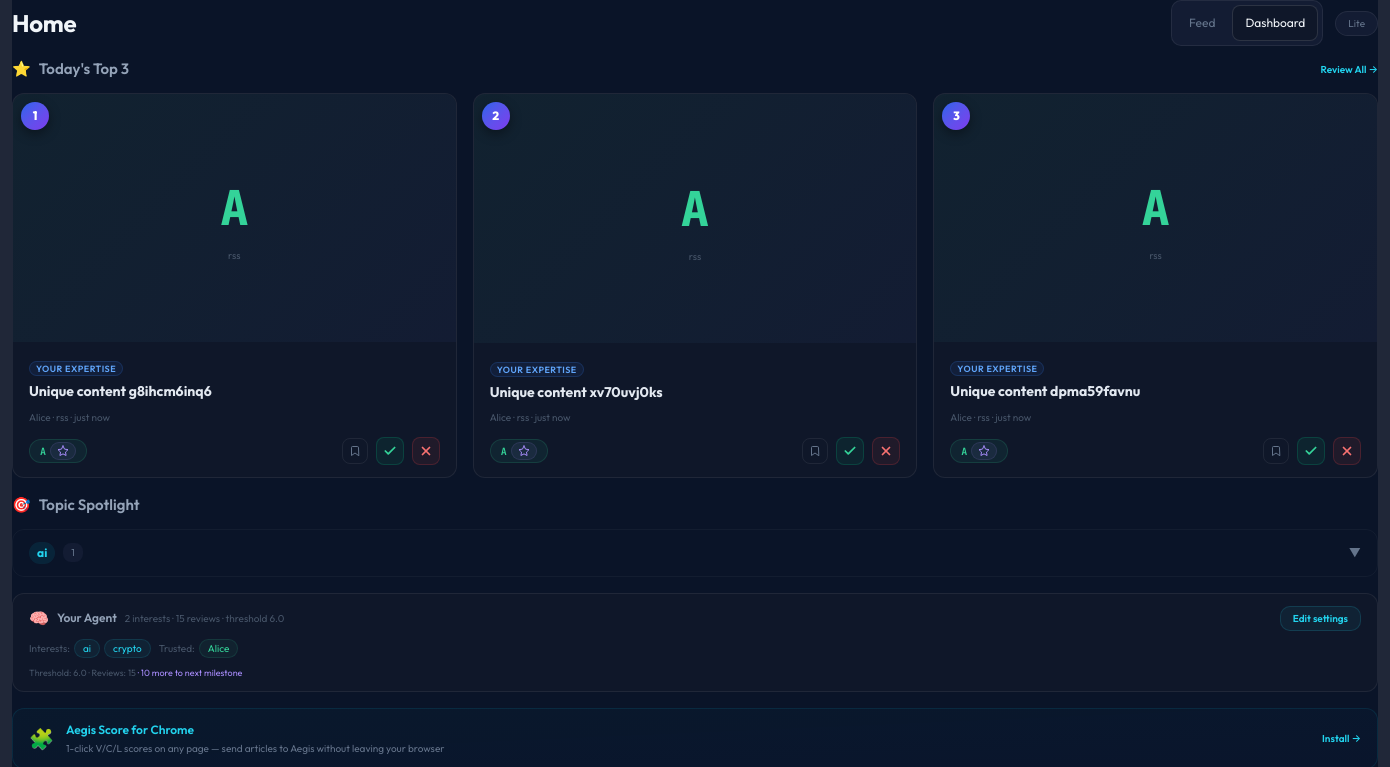
Test: Feedback loop — agent learned messages › shows feedback message after validating an item with topic
Click the 1st button named "Validate" at (390, 451), box [376,437,404,465]
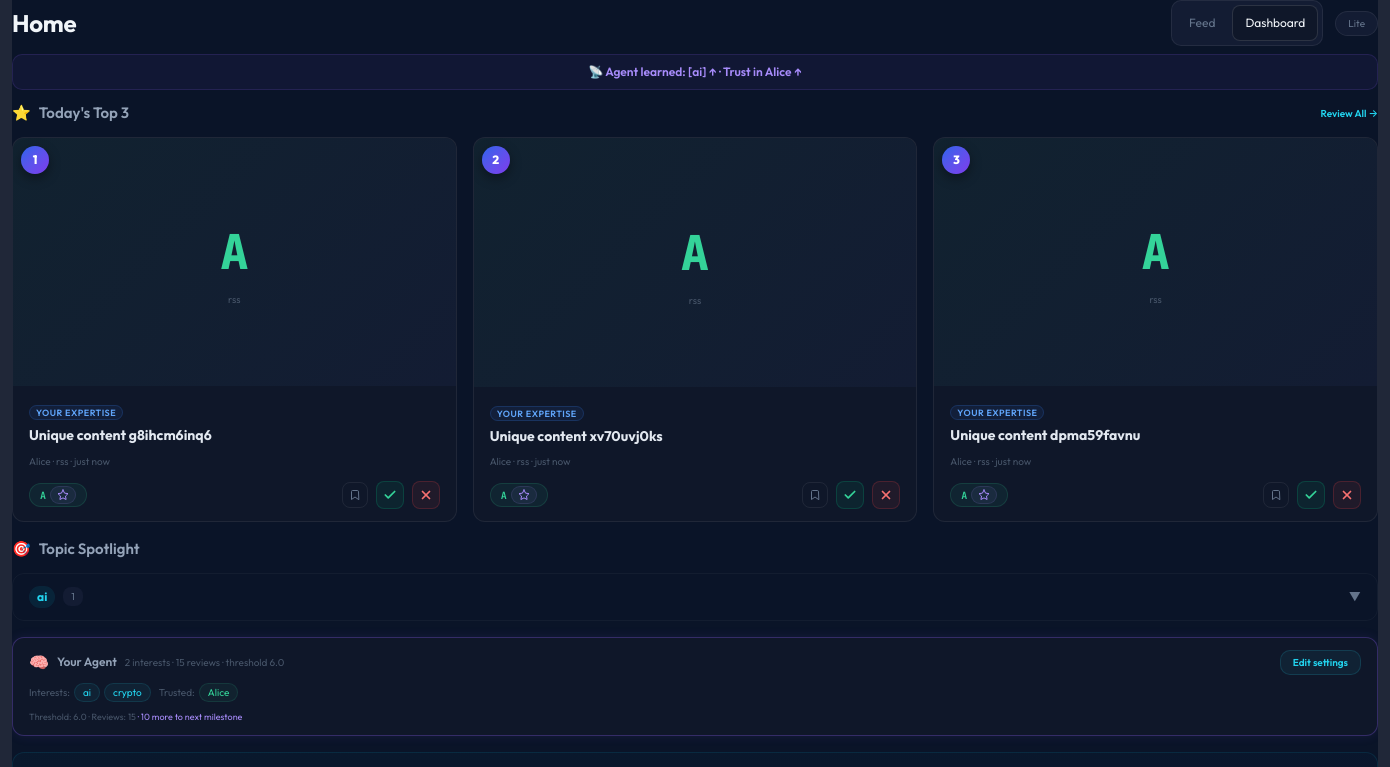
Expected: the text "📡 Agent learned: [ai] ↑ · Trust in Alice ↑" is shown, [12,54,1378,90]
